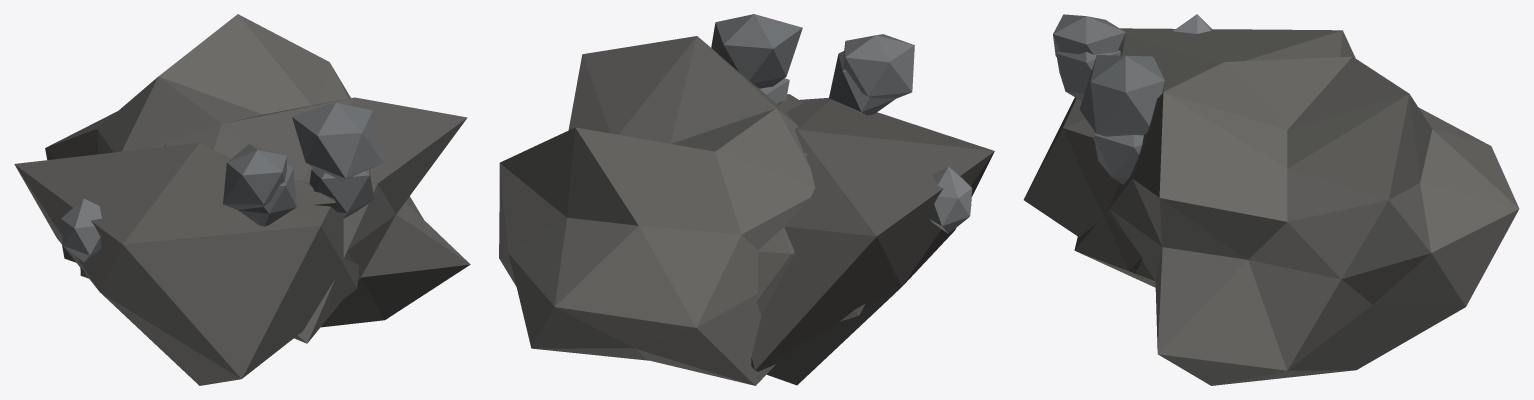
Rendered from iron_rock.glb.
3 renders of one model, left to right at view 1: azimuth 30°, elevation 25°; view 2: azimuth 150°, elevation 25°; view 3: azimuth 270°, elevation 25°, orthographic. The views are drawn at different scales.
Parts seen in each view (by area): view 1: iron_rock; view 2: iron_rock; view 3: iron_rock.
Part boxes in pixels (x1,y1,x2,y2): iron_rock: [14, 14, 470, 385]; iron_rock: [499, 14, 994, 385]; iron_rock: [1023, 14, 1519, 385].
Bounding box in the file's own units: 1.62 × 1.13 × 1.62.
1 material, 1 textured.
